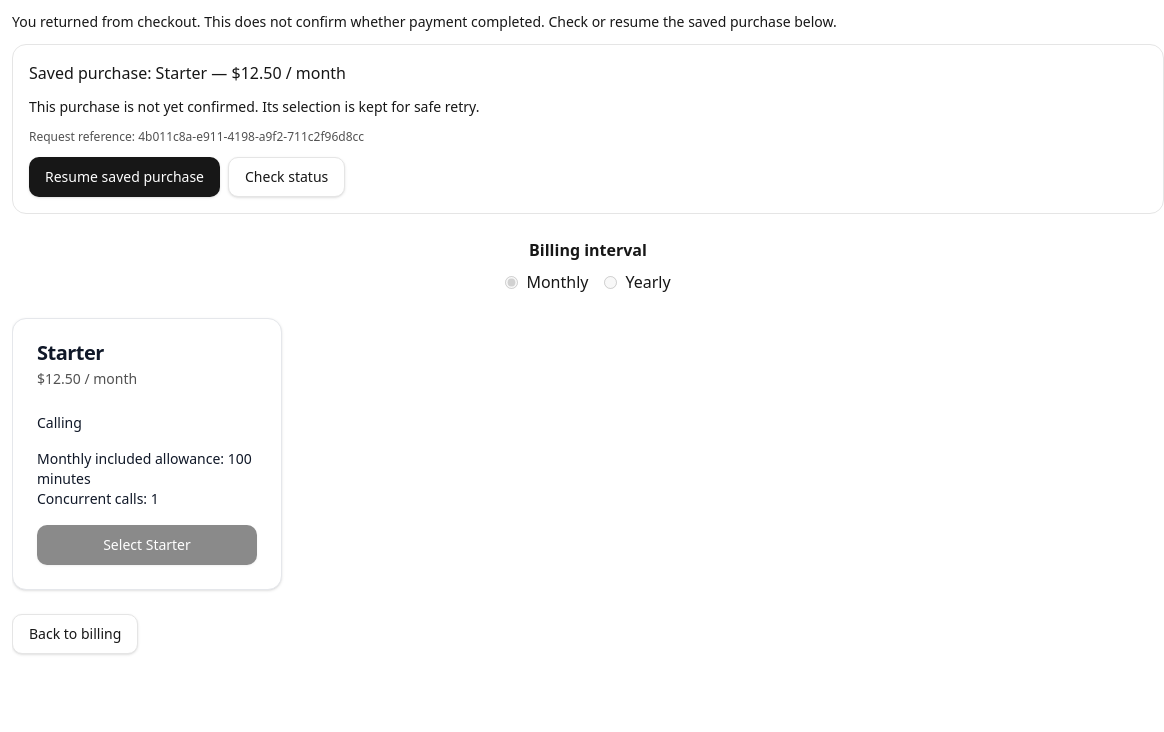
browser cancellation keeps the saved request frozen until confirmed terminal
The width and height of the screenshot is (1164, 732).
Expected: the text "does not confirm whether payment completed" is shown, [12,12,837,31]
Click the button "Check status".
click(287, 177)  # box [228,157,345,197]
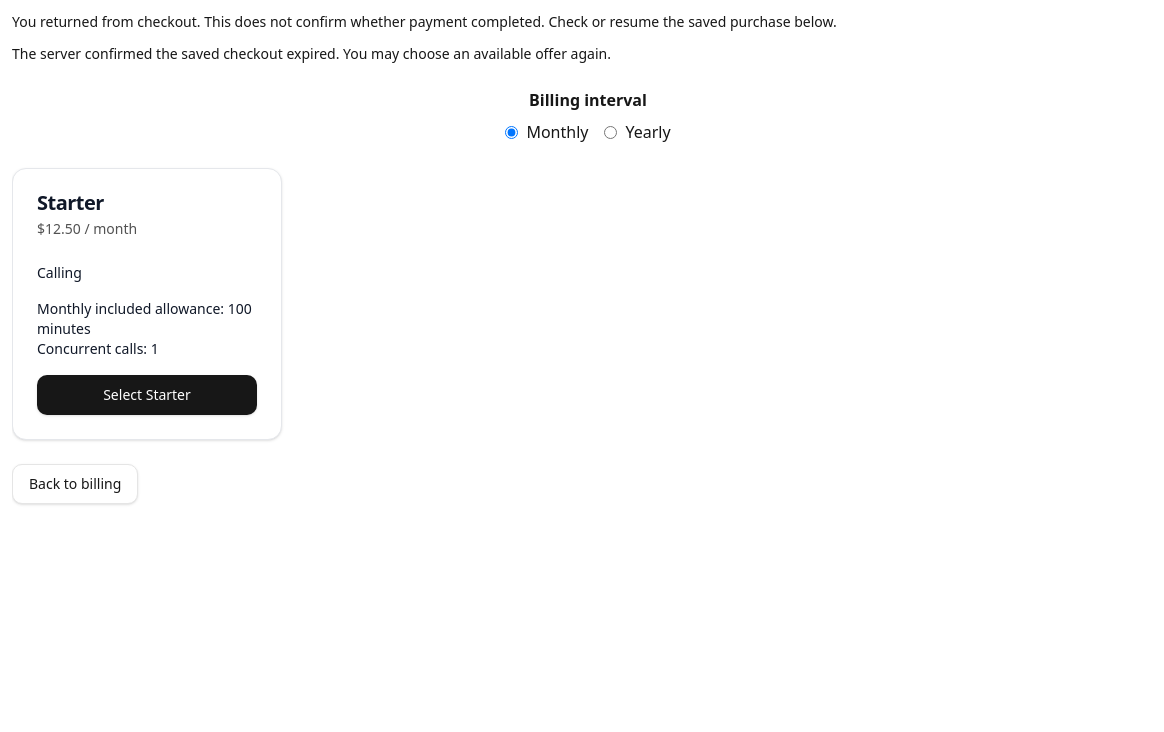
Now the text "server confirmed the saved checkout expired" is shown, box [12,44,611,63]
